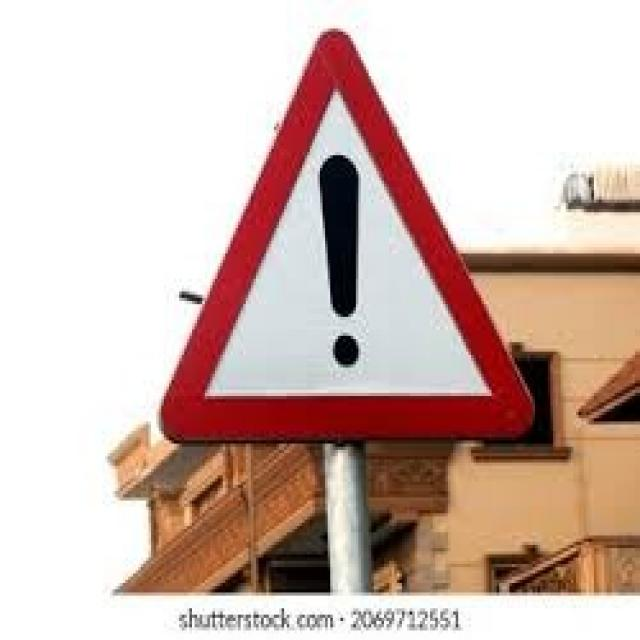warning: (154, 18, 540, 451)
